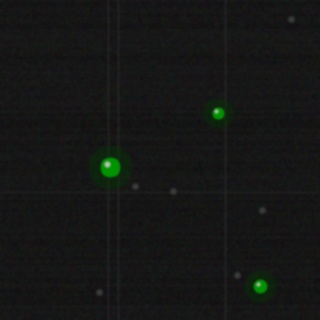green_normal: (98, 155, 122, 179), (251, 277, 269, 295), (210, 105, 226, 121)
